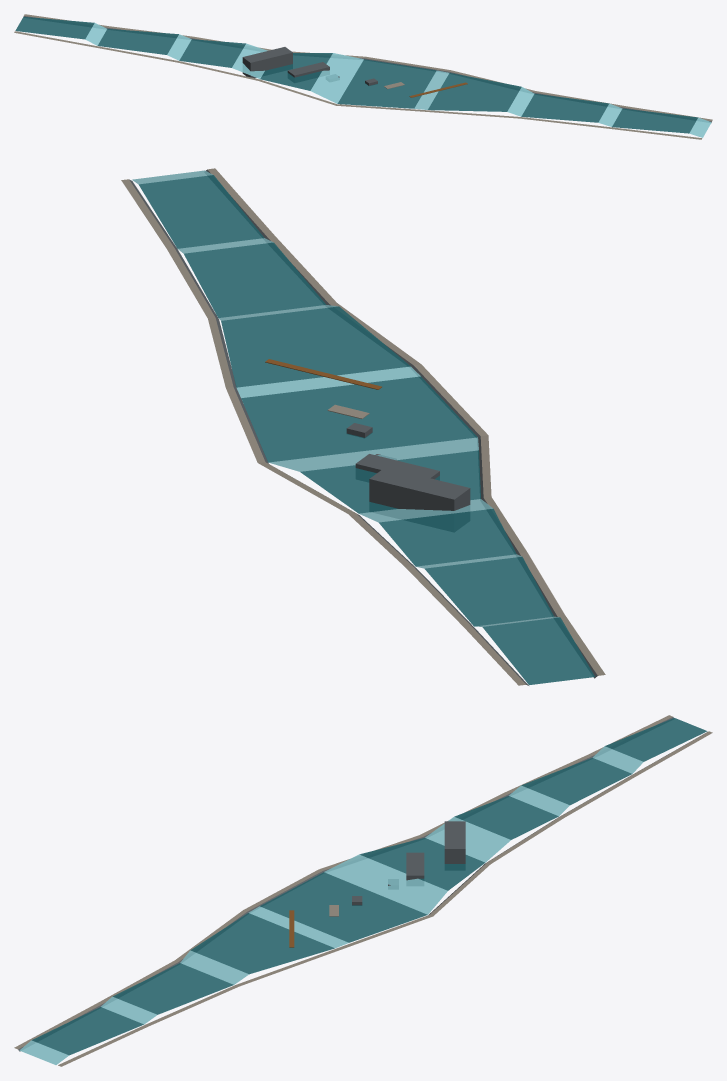
File: water_thac_lieng_chi_da_nhim.glb
3 renders of one model, top to bottom at view 1: azimuth 30°, elevation 25°; view 2: azimuth 150°, elevation 25°; view 3: azimuth 270°, elevation 25°, orthographic. The views are drawn at different scales.
Visible parts, largest first — view 1: water_terraces_water_thac_lieng_chi_da_nhim, waterfall_curtain_water_thac_lieng_chi_da_nhim, canyon_walkway_water_thac_lieng_chi_da_nhim, lieng_chi_three_tier_basalt_granite_cliff, lieng_chi_middle_mossy_terrace_ledge, basalt_canyon_embankments_water_thac_lieng_chi_da_nhim; view 2: water_terraces_water_thac_lieng_chi_da_nhim, canyon_walkway_water_thac_lieng_chi_da_nhim, waterfall_curtain_water_thac_lieng_chi_da_nhim, lieng_chi_three_tier_basalt_granite_cliff, basalt_canyon_embankments_water_thac_lieng_chi_da_nhim, lieng_chi_middle_mossy_terrace_ledge; view 3: water_terraces_water_thac_lieng_chi_da_nhim, waterfall_curtain_water_thac_lieng_chi_da_nhim, canyon_walkway_water_thac_lieng_chi_da_nhim, lieng_chi_three_tier_basalt_granite_cliff, basalt_canyon_embankments_water_thac_lieng_chi_da_nhim.
Part boxes in pixels (box(x1,y1,x2,y2)): water_terraces_water_thac_lieng_chi_da_nhim: box(15, 16, 697, 133); waterfall_curtain_water_thac_lieng_chi_da_nhim: box(85, 23, 711, 137); canyon_walkway_water_thac_lieng_chi_da_nhim: box(14, 14, 712, 139); lieng_chi_three_tier_basalt_granite_cliff: box(242, 47, 292, 78); lieng_chi_middle_mossy_terrace_ledge: box(287, 62, 329, 77); basalt_canyon_embankments_water_thac_lieng_chi_da_nhim: box(23, 16, 711, 122); water_terraces_water_thac_lieng_chi_da_nhim: box(138, 175, 594, 685); canyon_walkway_water_thac_lieng_chi_da_nhim: box(121, 168, 605, 685); waterfall_curtain_water_thac_lieng_chi_da_nhim: box(132, 170, 558, 626); lieng_chi_three_tier_basalt_granite_cliff: box(369, 467, 470, 510); basalt_canyon_embankments_water_thac_lieng_chi_da_nhim: box(129, 169, 597, 685); lieng_chi_middle_mossy_terrace_ledge: box(355, 454, 439, 479); water_terraces_water_thac_lieng_chi_da_nhim: box(32, 718, 707, 1055); waterfall_curtain_water_thac_lieng_chi_da_nhim: box(19, 746, 643, 1064); canyon_walkway_water_thac_lieng_chi_da_nhim: box(14, 715, 712, 1066); lieng_chi_three_tier_basalt_granite_cliff: box(444, 821, 465, 863); basalt_canyon_embankments_water_thac_lieng_chi_da_nhim: box(18, 717, 706, 1051).
Bounding box in the file's own units: 598 × 43.45 × 578.
